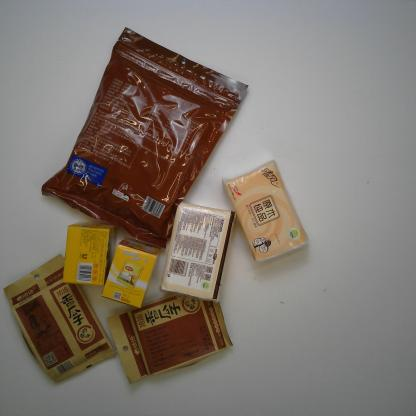Dried Food: (39, 23, 249, 250), (1, 251, 118, 388), (104, 290, 235, 386)
Instant Drink: (101, 239, 161, 310), (60, 219, 119, 288)
Tissue: (220, 157, 311, 269), (158, 200, 238, 303)
